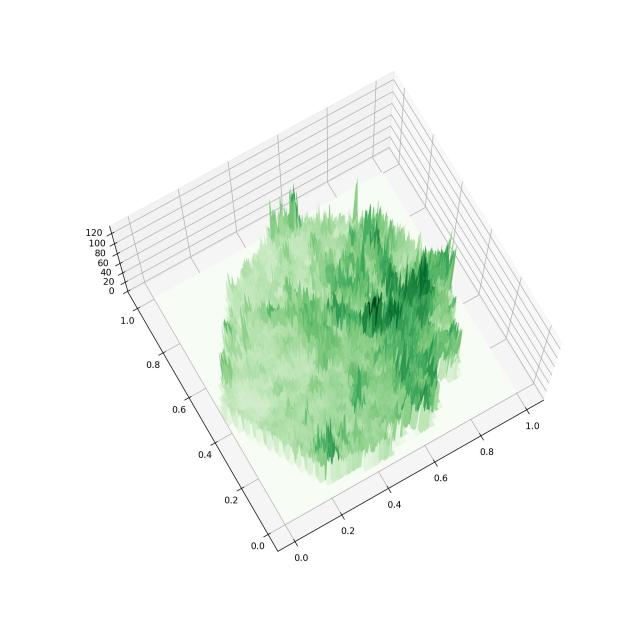spruce: (45, 66, 597, 581)
